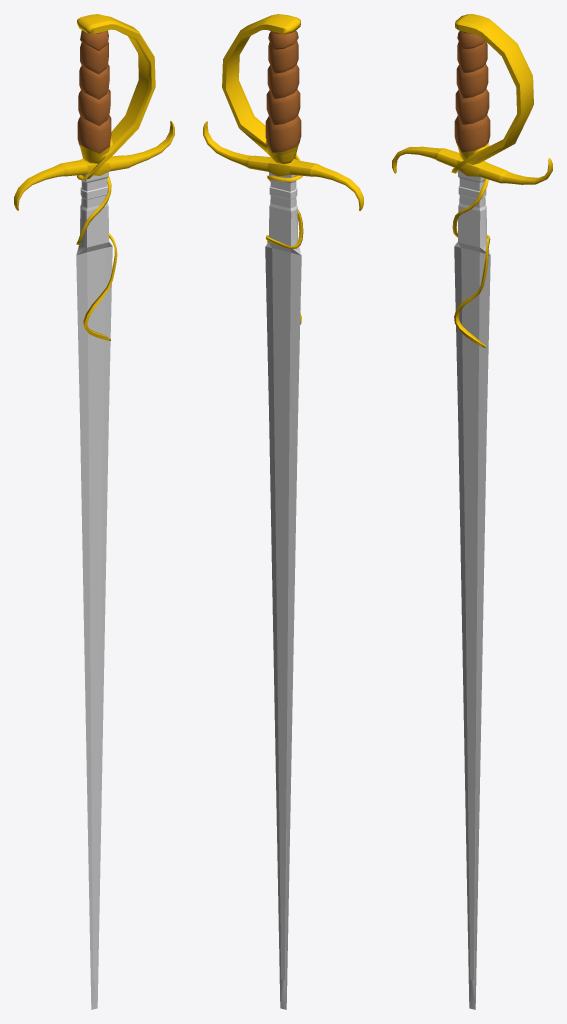
Rendered from Rapier.fbx.
3 views of the same model, side by side, from view 1: azimuth 30°, elevation 25°; view 2: azimuth 150°, elevation 25°; view 3: azimuth 330°, elevation 25° (orthographic).
Parts seen in each view (by area): view 1: rapier; view 2: rapier; view 3: rapier.
Boxes of the visible parts, x1=… form: rapier: x1=14, y1=14, x2=174, y2=1009; rapier: x1=203, y1=14, x2=363, y2=1009; rapier: x1=392, y1=14, x2=552, y2=1009.
Size of the model in its own units: 3.52 by 20.94 by 0.6702.
Materials: 1 (1 with a texture image).
